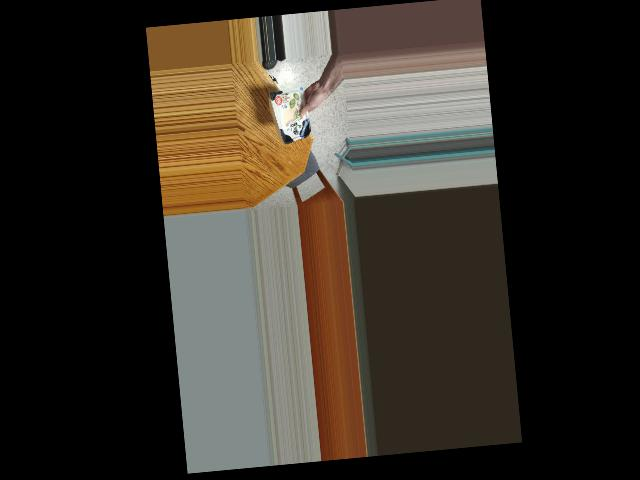cheese: (268, 87, 313, 144)
